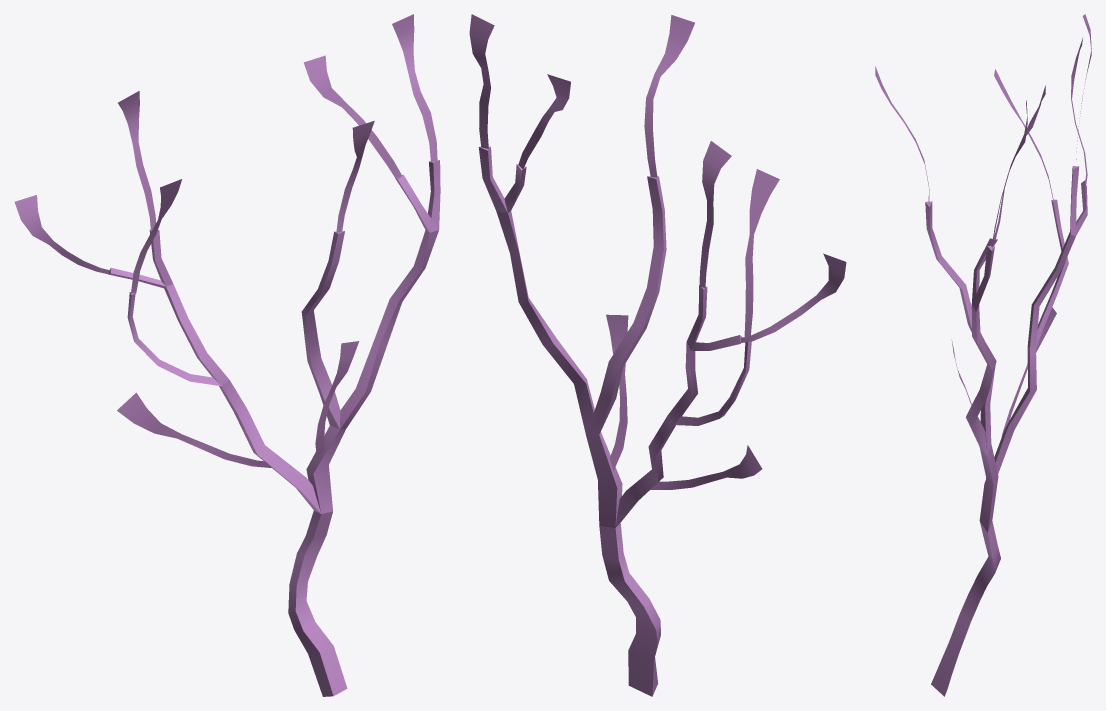
File: coral_C_ultralight.fbx
3 views of the same model, side by side, from view 1: azimuth 30°, elevation 25°; view 2: azimuth 150°, elevation 25°; view 3: azimuth 270°, elevation 25° (orthographic). The views are drawn at different scales.
Visible parts, largest first — view 1: coral_C_ultralight_twigs, coral_C_ultralight_flowers; view 2: coral_C_ultralight_twigs, coral_C_ultralight_flowers; view 3: coral_C_ultralight_twigs, coral_C_ultralight_flowers.
Part boxes in pixels (x1,y1,x2,y2): coral_C_ultralight_twigs: (108,160,440,696); coral_C_ultralight_flowers: (14,14,437,468); coral_C_ultralight_twigs: (478,146,751,696); coral_C_ultralight_flowers: (469,14,846,489); coral_C_ultralight_twigs: (925,166,1087,696); coral_C_ultralight_flowers: (875,14,1091,437).
Bounding box in the file's own units: 86.86 × 136 × 40.92.
